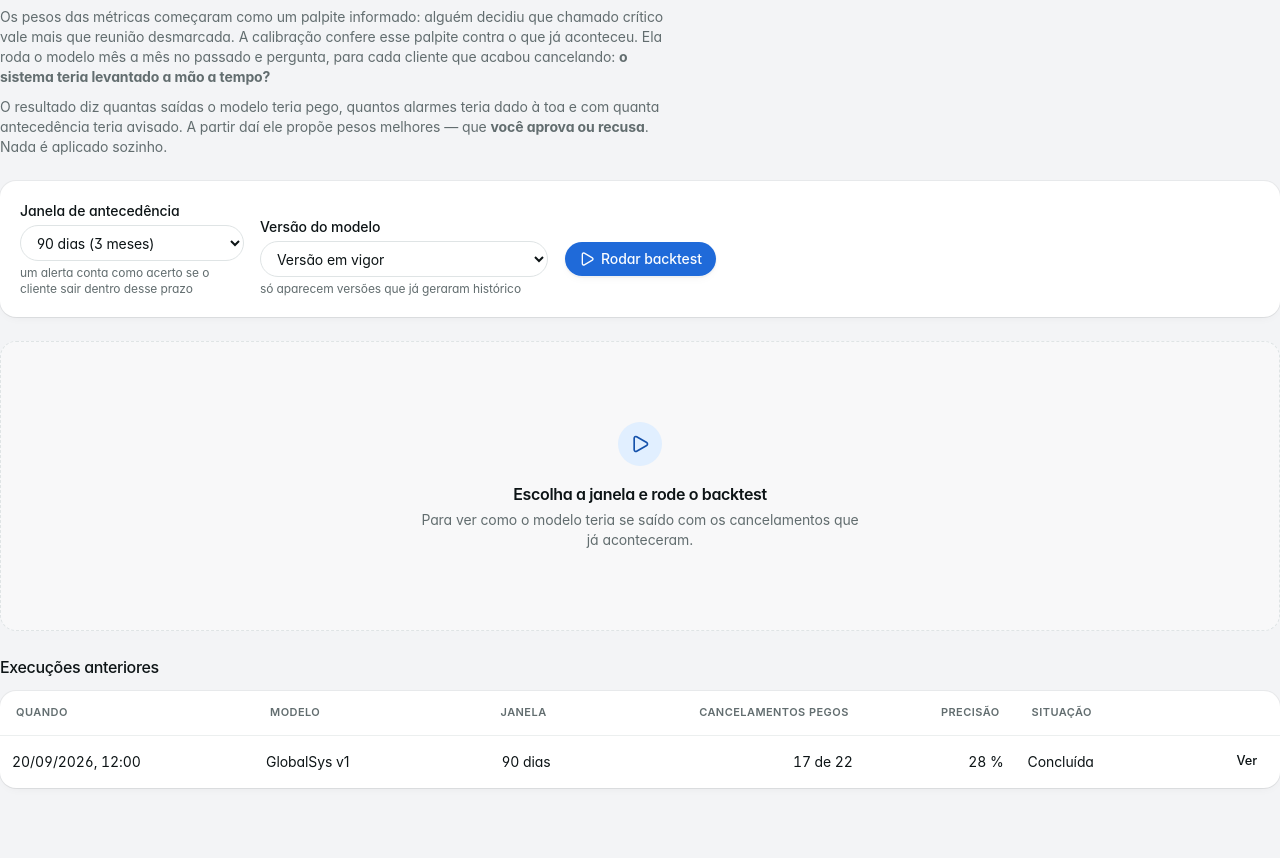
Scenario: tela de calibração › criar nova versão pede confirmação e deixa claro que nada muda até ativar
Click the button "Rodar backtest". click: (640, 259)
box: [564, 241, 717, 277]
(page scrolled)
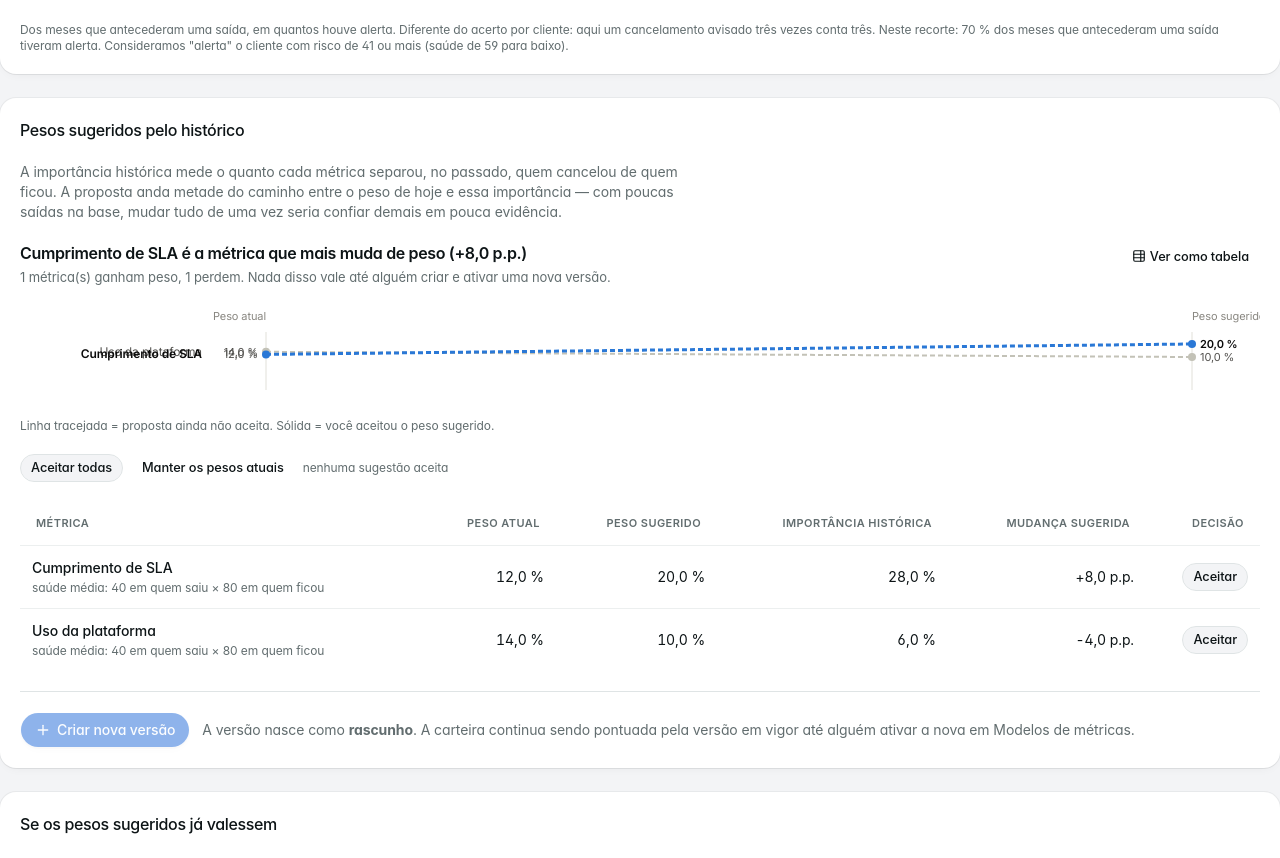
Check: the button "Criar nova versão" is disabled, box [20, 712, 190, 748]
Click the button "Aceitar todas". click: (72, 468)
box: [20, 454, 123, 482]
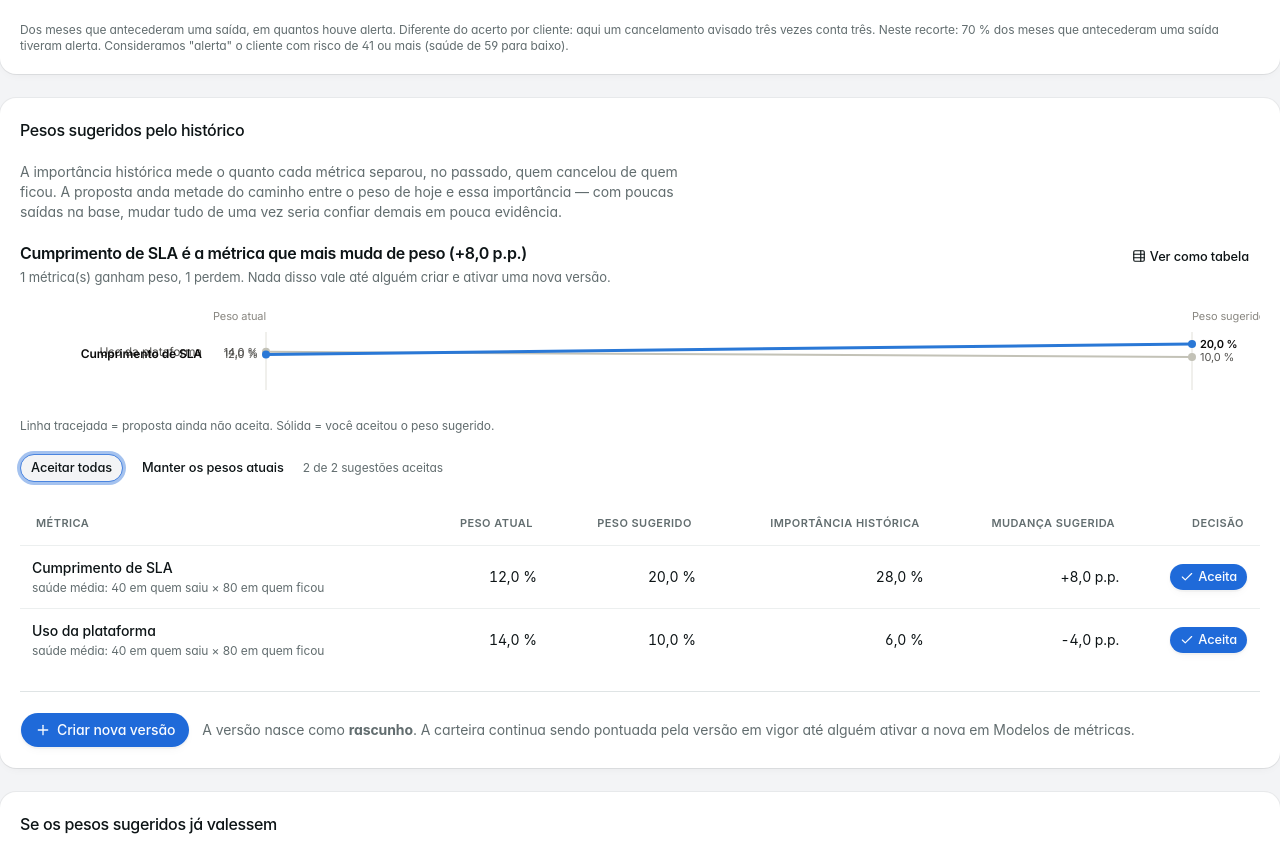
Click the button "Criar nova versão". click: (105, 730)
box: [20, 712, 190, 748]
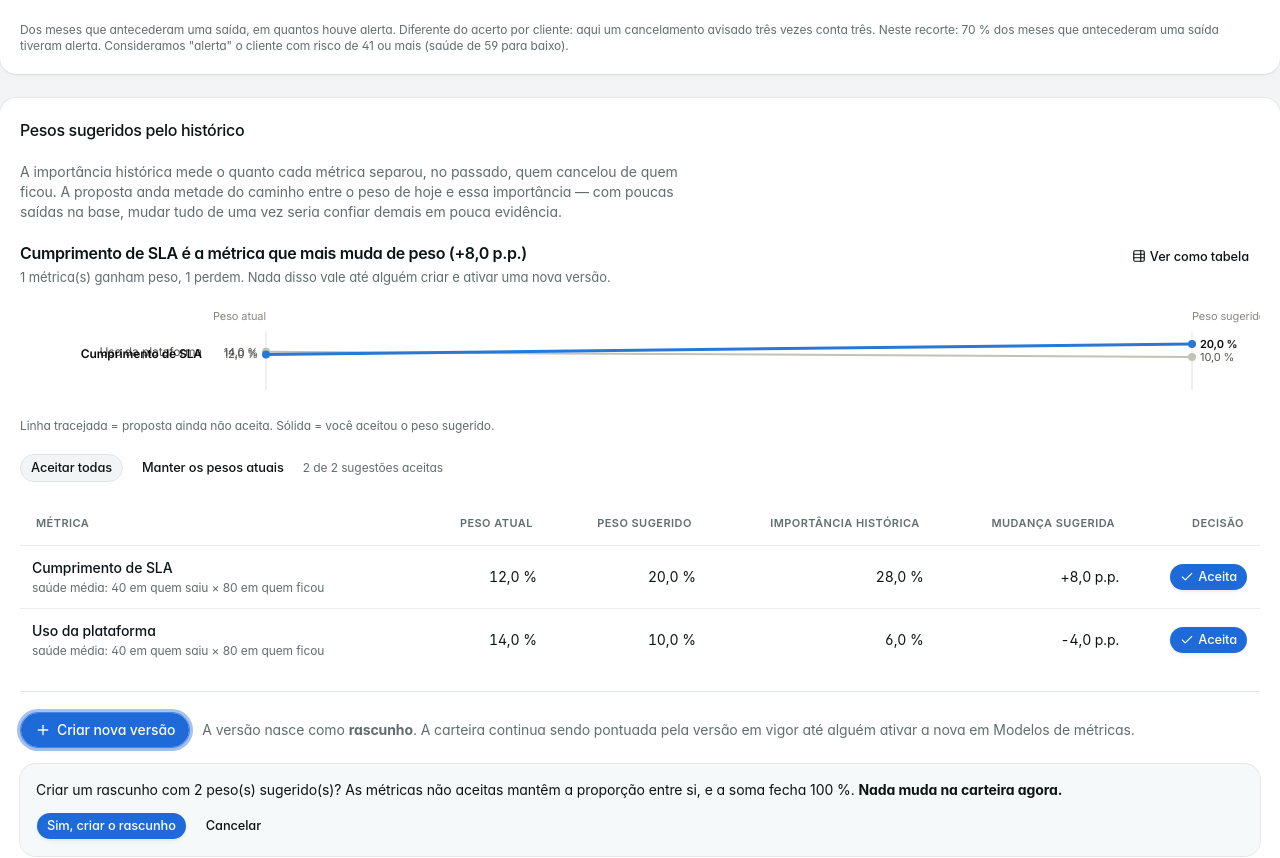
Check: the dialog shows "nada muda na carteira agora", box [858, 781, 1062, 798]
Click the button "Sim, criar o rascunho". click: (111, 826)
box: [36, 812, 187, 840]
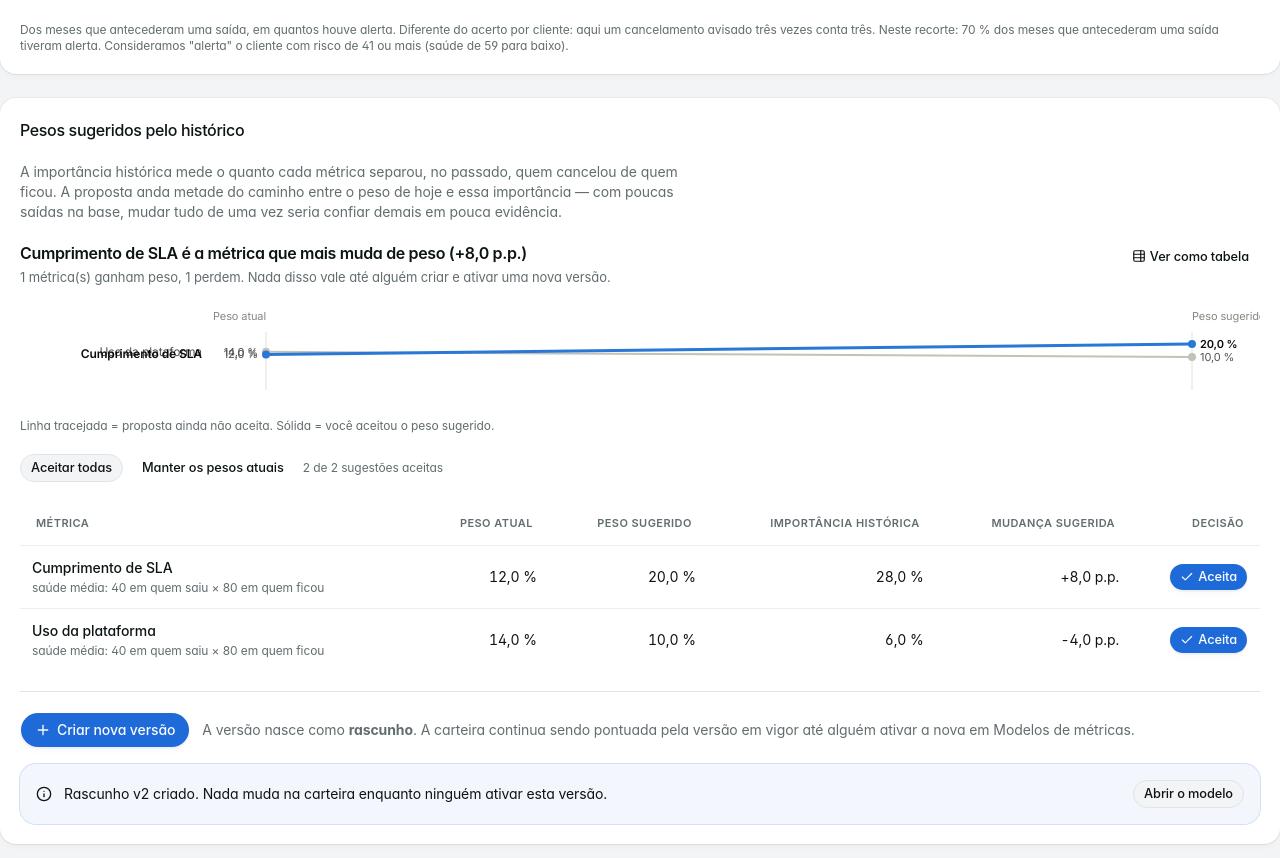
Check: the text "enquanto ninguém ativar esta versão" is shown, box [64, 785, 607, 802]
